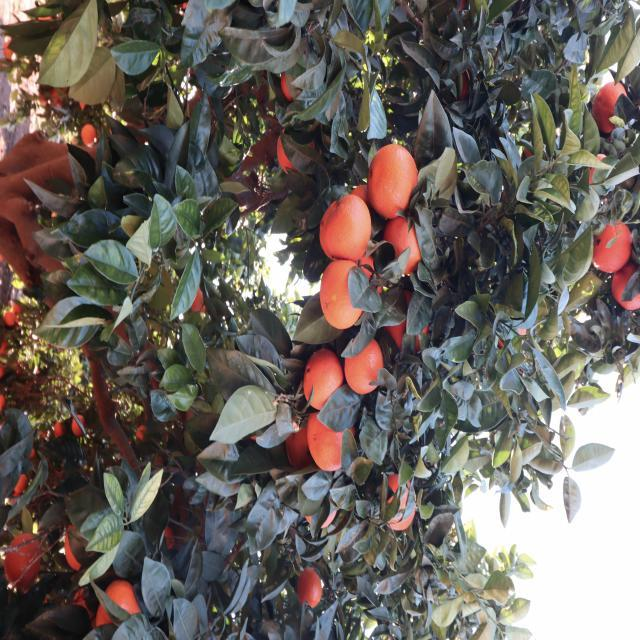Jeruk Sudah Matang: (284, 205, 361, 263), (144, 218, 217, 276), (402, 281, 482, 333), (193, 268, 259, 326), (262, 274, 334, 326), (236, 249, 309, 291), (350, 289, 412, 338), (122, 322, 186, 367), (78, 6, 144, 49), (578, 494, 634, 544), (218, 210, 280, 255), (218, 6, 276, 53), (470, 221, 537, 261), (536, 596, 596, 638), (338, 254, 397, 296), (415, 318, 471, 356), (45, 326, 105, 359), (258, 0, 316, 31), (59, 163, 111, 197), (520, 543, 574, 575), (494, 296, 534, 339), (152, 24, 201, 59), (566, 312, 612, 348), (180, 260, 232, 291), (303, 96, 342, 130), (520, 460, 570, 486), (122, 540, 160, 568), (281, 432, 316, 458), (330, 129, 364, 151), (590, 544, 626, 564), (412, 553, 442, 571), (306, 616, 330, 636), (472, 610, 496, 630), (421, 490, 448, 507), (404, 438, 428, 454), (40, 623, 63, 639), (420, 574, 443, 588), (90, 574, 112, 588), (391, 632, 422, 640), (440, 602, 464, 612), (92, 592, 110, 602), (428, 592, 440, 604), (364, 635, 379, 640)
